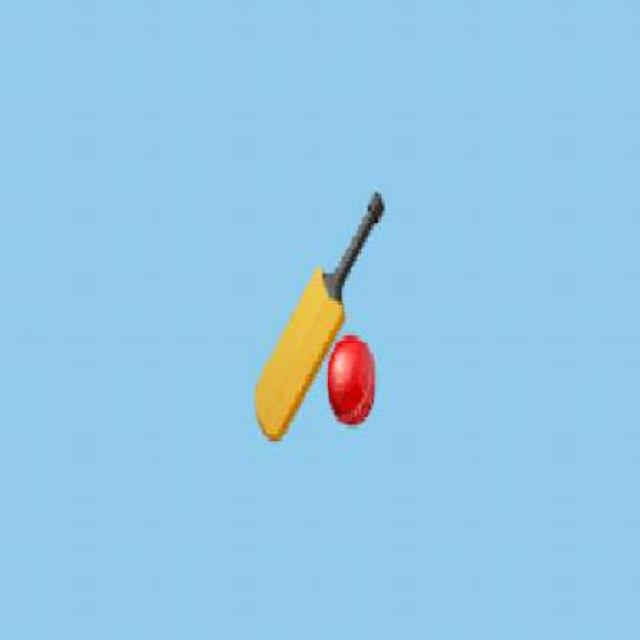ball: (322, 322, 396, 448)
